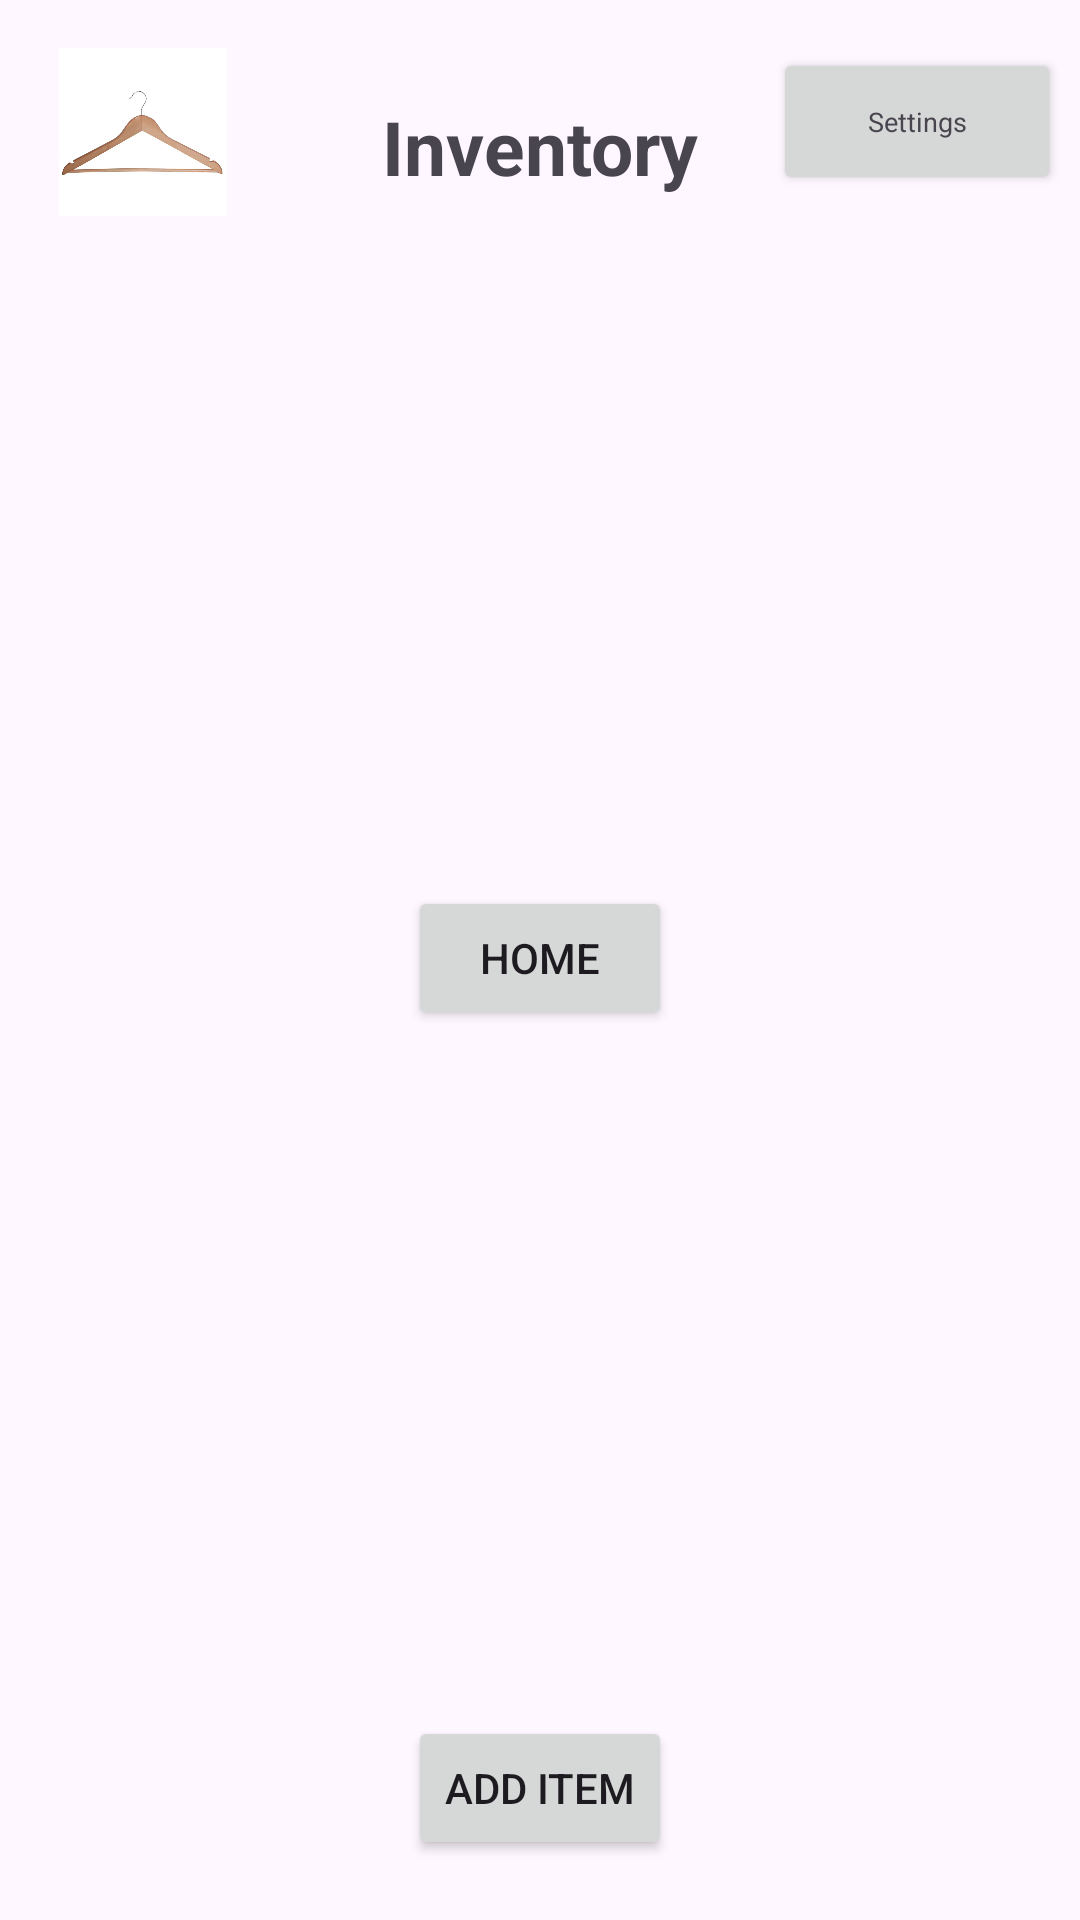

Named icons in this screenshot (1080 × 1920) and their bounding boxes, BBox(x1, y1, x2, y2):
hanger: BBox(62, 91, 223, 175)
